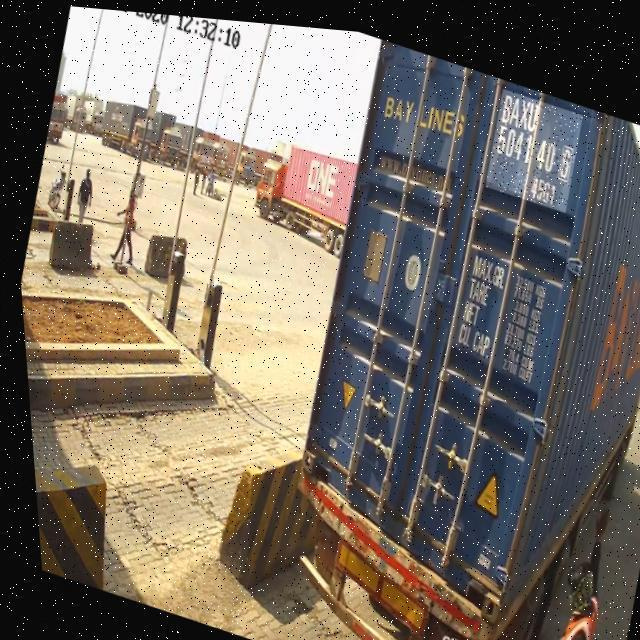container_number_h: (477, 78, 587, 204)
